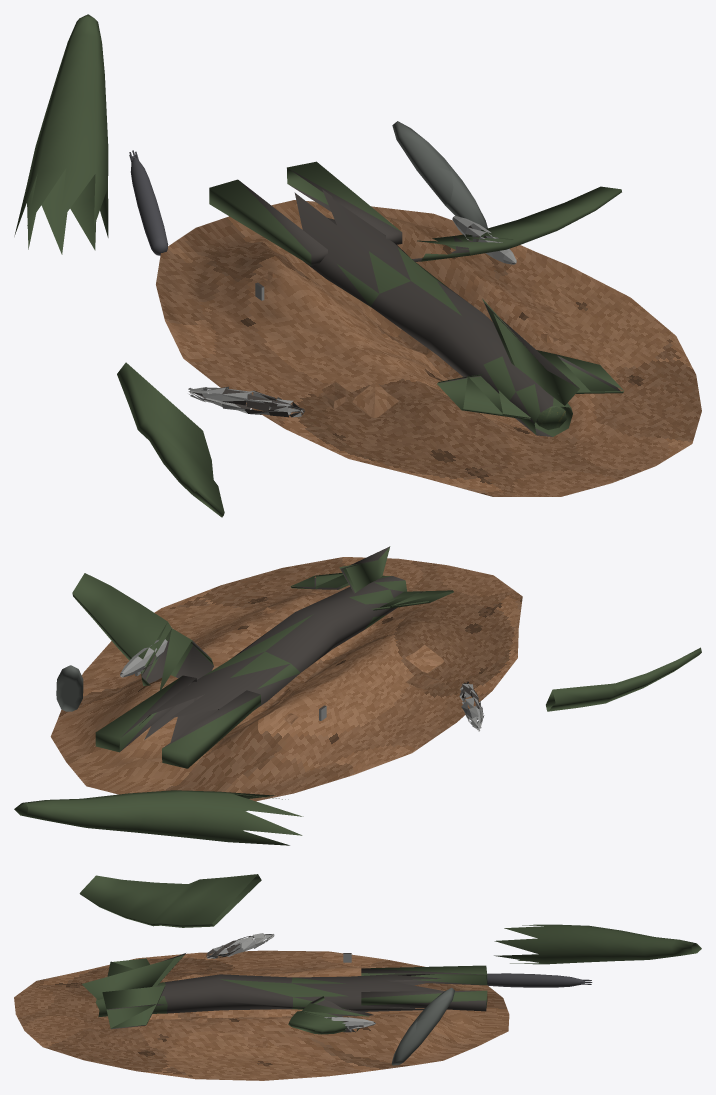
File: f4_phantom_crashed.glb
3 views of the same model, one above another, from view 1: azimuth 30°, elevation 25°; view 2: azimuth 150°, elevation 25°; view 3: azimuth 270°, elevation 25° (orthographic). The views are drawn at different scales.
Visible parts, largest first — view 1: wreck_hard_mound, wreck_hard_fuselage, wreck_hard_nose, wreck_soft_wing_thrown, wreck_soft_wing_r, wreck_soft_intake_l, wreck_soft_canopy, wreck_soft_intake_r, wreck_soft_tailfin, wreck_soft_stab_l, wreck_soft_tank_thrown, wreck_soft_gunpod (+2 smaller); view 2: wreck_hard_mound, wreck_hard_fuselage, wreck_hard_nose, wreck_soft_wing_r, wreck_soft_intake_l, wreck_soft_wing_thrown, wreck_soft_intake_r, wreck_soft_tailfin, wreck_soft_canopy, wreck_soft_stab_l, wreck_soft_tank_thrown, wreck_soft_stab_r (+1 smaller); view 3: wreck_hard_mound, wreck_hard_fuselage, wreck_soft_wing_thrown, wreck_hard_nose, wreck_soft_intake_r, wreck_soft_stab_r, wreck_soft_intake_l, wreck_soft_tailfin, wreck_soft_wing_r, wreck_soft_canopy, wreck_soft_gunpod, wreck_soft_tank_thrown (+2 smaller).
Part boxes in pixels (x1,y1,x2,y2): wreck_hard_mound: [156, 200, 701, 496]; wreck_hard_fuselage: [268, 189, 572, 436]; wreck_hard_nose: [14, 14, 108, 254]; wreck_soft_wing_thrown: [117, 362, 224, 517]; wreck_soft_wing_r: [412, 186, 621, 261]; wreck_soft_intake_l: [209, 179, 327, 265]; wreck_soft_canopy: [392, 121, 487, 228]; wreck_soft_intake_r: [287, 161, 402, 244]; wreck_soft_tailfin: [482, 298, 579, 408]; wreck_soft_stab_l: [437, 374, 536, 421]; wreck_soft_tank_thrown: [188, 386, 305, 417]; wreck_soft_gunpod: [129, 150, 168, 255]; wreck_hard_mound: [50, 557, 522, 801]; wreck_hard_fuselage: [139, 575, 406, 741]; wreck_hard_nose: [14, 790, 303, 845]; wreck_soft_wing_r: [72, 573, 213, 701]; wreck_soft_intake_l: [162, 690, 260, 768]; wreck_soft_wing_thrown: [546, 647, 701, 711]; wreck_soft_intake_r: [95, 675, 196, 752]; wreck_soft_tailfin: [339, 546, 390, 593]; wreck_soft_canopy: [56, 665, 83, 711]; wreck_soft_stab_l: [371, 590, 453, 610]; wreck_soft_tank_thrown: [459, 681, 484, 731]; wreck_soft_stab_r: [290, 570, 381, 589]; wreck_hard_mound: [14, 950, 509, 1080]; wreck_hard_fuselage: [95, 974, 444, 1017]; wreck_soft_wing_thrown: [79, 874, 261, 927]; wreck_hard_nose: [494, 924, 701, 964]; wreck_soft_intake_r: [361, 990, 487, 1011]; wreck_soft_stab_r: [102, 985, 164, 1029]; wreck_soft_intake_l: [361, 965, 487, 985]; wreck_soft_tailfin: [82, 953, 185, 999]; wreck_soft_wing_r: [288, 996, 373, 1034]; wreck_soft_canopy: [391, 987, 454, 1065]; wreck_soft_gunpod: [487, 973, 592, 987]; wreck_soft_tank_thrown: [206, 933, 274, 958].
Size of what is drawn, in the model's own units: 16.07 by 3.06 by 25.
Materials: 7 (3 with a texture image).
